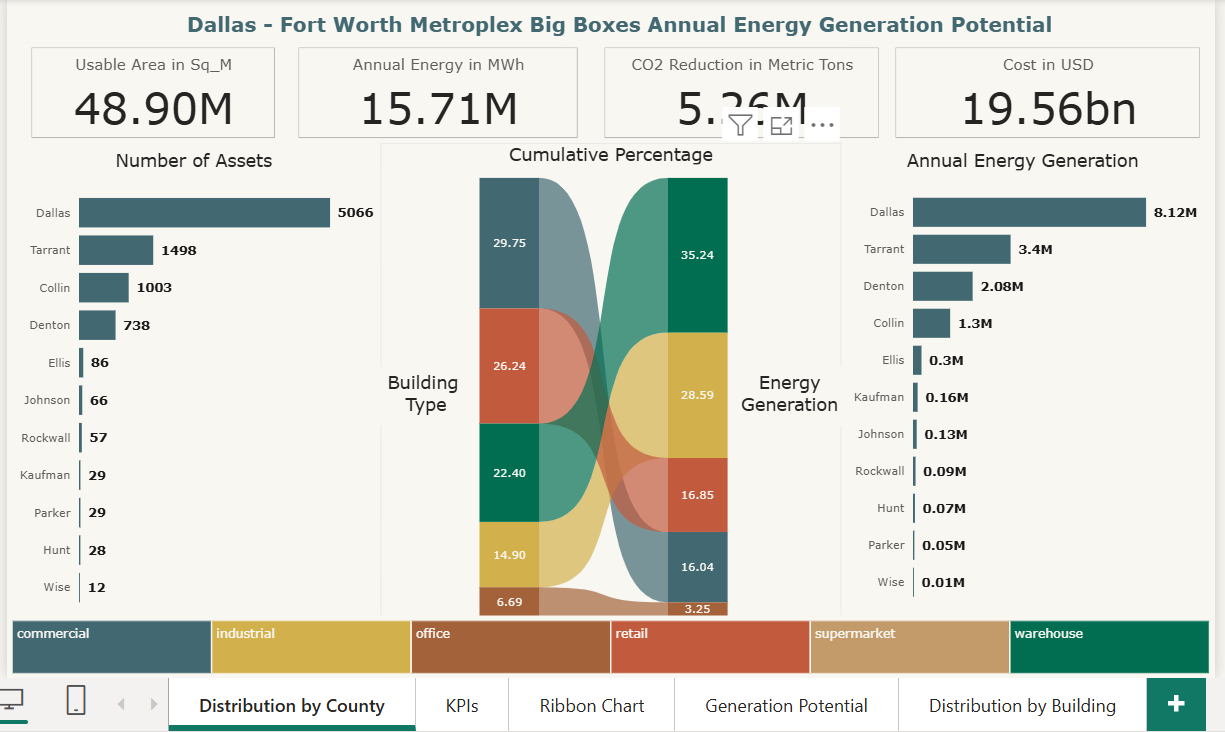

The page's visual inventory and layout, read from the dashboard file:
{"tool":"powerbi","page":{"name":"Distribution by County","canvas":[1280,720],"ordinal":0},"visuals":[{"type":"barChart","title":"Number of Assets","fields":{"Category":["final_solar_estimates.county"],"Y":["CountNonNull(final_solar_estimates.building)"]},"box":[0,158.3,396.3,501.8],"z":0},{"type":"barChart","title":"Annual Energy Generation","fields":{"Category":["final_solar_estimates.county"],"Y":["Sum(final_solar_estimates.Annual_MWh)"]},"box":[884.7,158.3,385.3,495.7],"z":1000},{"type":"cardVisual","fields":{"Data":["Sum(final_solar_estimates.Roof_Sq_M)"]},"box":[20.9,45.4,268.7,106.7],"z":2000},{"type":"cardVisual","fields":{"Data":["Sum(final_solar_estimates.Annual_MWh)"]},"box":[303.1,45.4,306.8,106.7],"z":3000},{"type":"cardVisual","fields":{"Data":["Sum(final_solar_estimates.Carbon_Reduction_tonsCO2)"]},"box":[628.2,45.4,301.8,106.7],"z":4000},{"type":"cardVisual","fields":{"Data":["Sum(final_solar_estimates.Estimated_Solar_Cost_USD)"]},"box":[936.2,45.4,333.7,106.7],"z":5000},{"type":"ribbonChart","title":"Cumulative Percentage","fields":{"Y":["Sum(Ribbon_Chart_Table.Value)"],"Series":["Ribbon_Chart_Table.Building_Type"],"Category":["Ribbon_Chart_Table.Metric"]},"box":[396.3,152.1,488.3,508],"z":6000},{"type":"treemap","fields":{"Group":["final_solar_estimates.building"],"Values":["Count(final_solar_estimates.building)"]},"box":[0,654,1279.8,66.3],"z":7000},{"type":"textbox","box":[382.8,389,115.3,62.6],"z":8000},{"type":"textbox","box":[766.9,389,126.4,62.6],"z":9000},{"type":"textbox","box":[18.4,8.6,1261.4,36.8],"z":10000}]}

Visuals, with their boxes on the page's 1280x720 design canvas (x1, y1, x2, y2). These are canvas units, not pixel positions in the 1225x732 screenshot, which may show the page scaled, cropped or inside an application window:
"Number of Assets" barChart: {"left": 0, "top": 158, "right": 396, "bottom": 660}
"Annual Energy Generation" barChart: {"left": 885, "top": 158, "right": 1270, "bottom": 654}
cardVisual - Sum(final_solar_estimates.Roof_Sq_M): {"left": 21, "top": 45, "right": 290, "bottom": 152}
cardVisual - Sum(final_solar_estimates.Annual_MWh): {"left": 303, "top": 45, "right": 610, "bottom": 152}
cardVisual - Sum(final_solar_estimates.Carbon_Reduction_tonsCO2): {"left": 628, "top": 45, "right": 930, "bottom": 152}
cardVisual - Sum(final_solar_estimates.Estimated_Solar_Cost_USD): {"left": 936, "top": 45, "right": 1270, "bottom": 152}
"Cumulative Percentage" ribbonChart: {"left": 396, "top": 152, "right": 885, "bottom": 660}
treemap - final_solar_estimates.building x Count(final_solar_estimates.building): {"left": 0, "top": 654, "right": 1280, "bottom": 720}
textbox: {"left": 383, "top": 389, "right": 498, "bottom": 452}
textbox: {"left": 767, "top": 389, "right": 893, "bottom": 452}
textbox: {"left": 18, "top": 9, "right": 1280, "bottom": 45}
